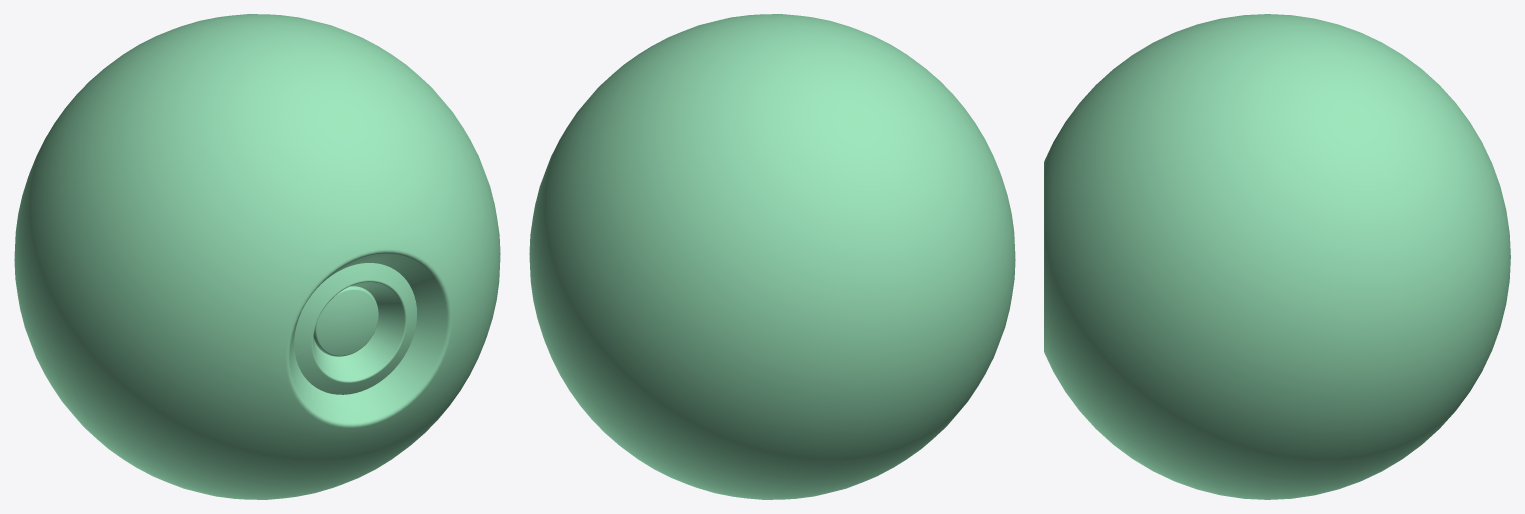
File: Orb_Enemy.FBX
The picture shows the model from 3 angles, left to right: view 1: azimuth 30°, elevation 25°; view 2: azimuth 150°, elevation 25°; view 3: azimuth 270°, elevation 25°; orthographic projection.
Visible parts, largest first — view 1: Sphere001; view 2: Sphere001; view 3: Sphere001.
Boxes of the visible parts, bbox=[...] form: Sphere001: bbox=[14, 14, 500, 499]; Sphere001: bbox=[529, 14, 1015, 499]; Sphere001: bbox=[1044, 14, 1510, 499].
Bounding box in the file's own units: 130 × 130 × 125.
